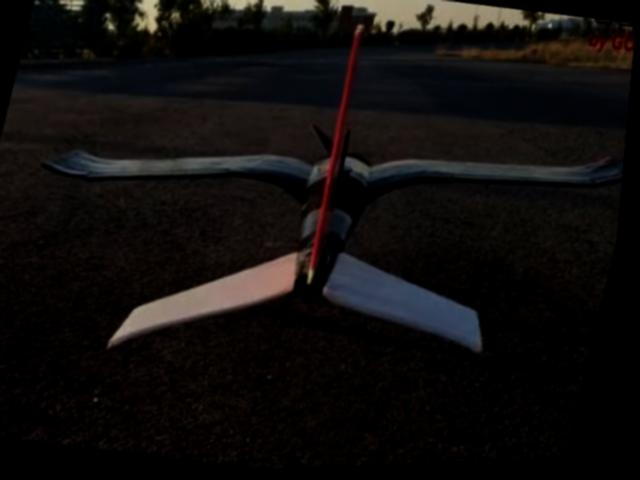uav: (0, 0, 640, 426)
